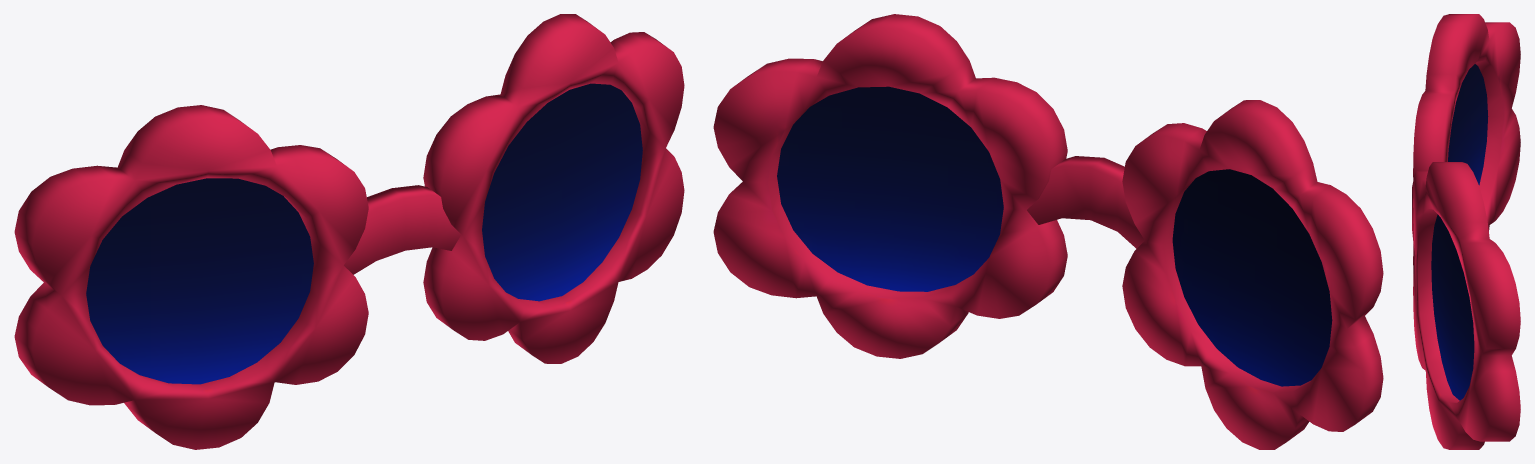
Rendered from AccessoryGlassFlower0.glb.
3 renders of one model, left to right at view 1: azimuth 30°, elevation 25°; view 2: azimuth 150°, elevation 25°; view 3: azimuth 270°, elevation 25°, orthographic. The views are drawn at different scales.
Parts seen in each view (by area): view 1: Accessory__mAccessory; view 2: Accessory__mAccessory; view 3: Accessory__mAccessory.
Part boxes in pixels (bbox=[...]): Accessory__mAccessory: bbox=[14, 14, 684, 449]; Accessory__mAccessory: bbox=[713, 14, 1383, 449]; Accessory__mAccessory: bbox=[1412, 14, 1520, 449].
Size of the model in its own units: 5.9 by 2.85 by 1.02.
Materials: 1 (1 with a texture image).
